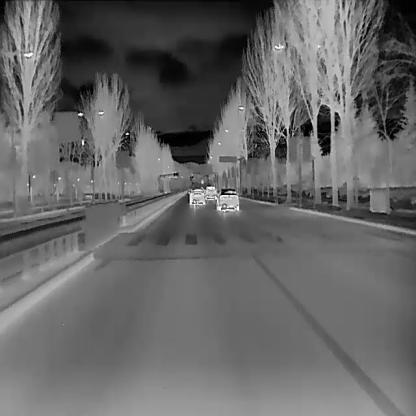car: (215, 187, 239, 210), (188, 187, 206, 205), (204, 185, 217, 199)
